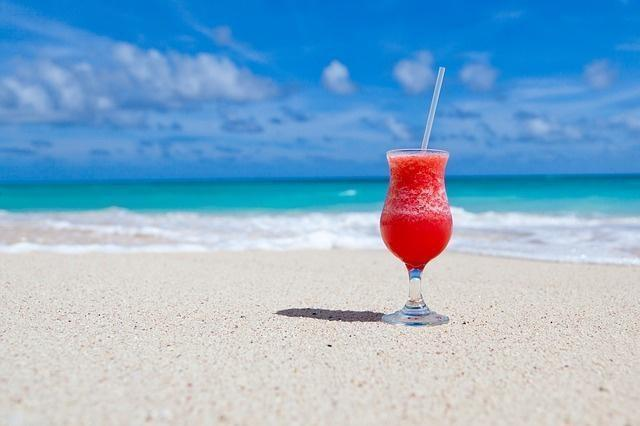glass-wine: (378, 147, 454, 325)
